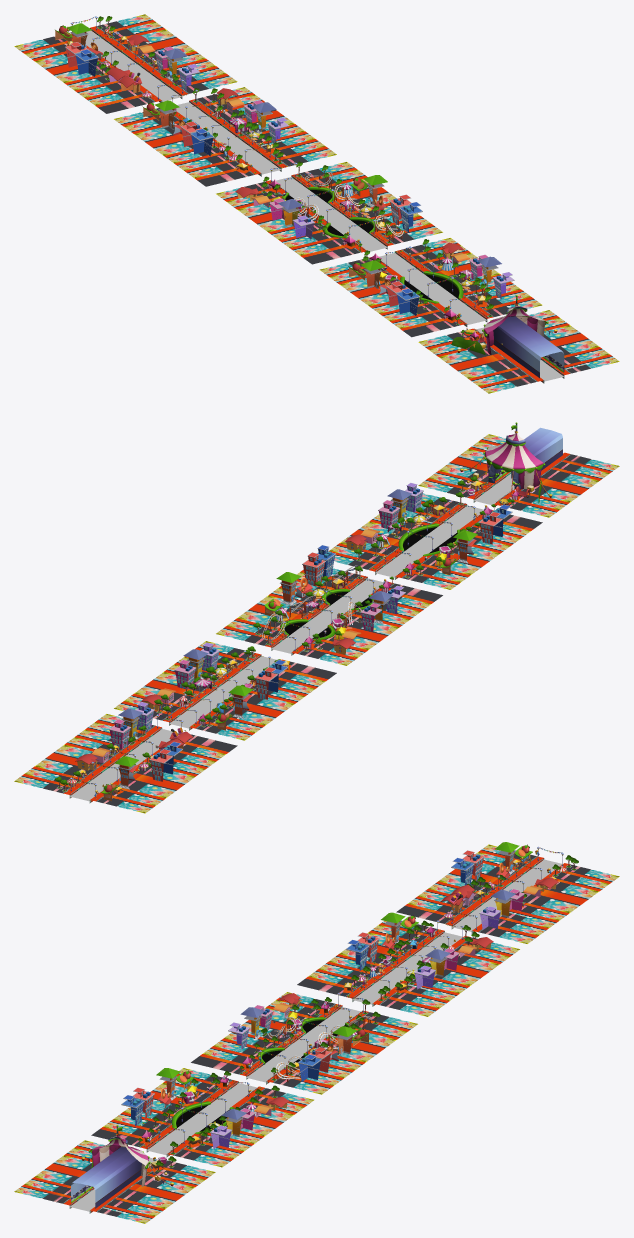
Rendered from carnival_new.fbx.
The picture shows the model from 3 angles, top to bottom: view 1: azimuth 30°, elevation 25°; view 2: azimuth 150°, elevation 25°; view 3: azimuth 330°, elevation 25°; orthographic projection.
Parts seen in each view (by area): view 1: base1, base2, base3, base4, baseRoad, builldings1, BuildingsGate, buildings3, builldings3, builldings4, builldings2, buildings4 (+5 smaller); view 2: base1, base2, base3, base4, baseRoad, builldings1, BuildingsGate, buildings3, builldings3, builldings4, builldings2, buildings4 (+6 smaller); view 3: base1, base2, base3, base4, baseRoad, builldings1, BuildingsGate, buildings3, builldings4, builldings3, builldings2, buildings4 (+5 smaller).
Boxes of the visible parts, <box> form: base1: <box>14,14,237,113</box>; base2: <box>114,87,336,186</box>; base3: <box>216,162,442,264</box>; base4: <box>319,238,542,337</box>; baseRoad: <box>418,310,619,393</box>; builldings1: <box>55,16,200,99</box>; BuildingsGate: <box>451,295,564,378</box>; buildings3: <box>261,161,403,251</box>; builldings3: <box>235,175,422,239</box>; builldings4: <box>348,242,514,315</box>; builldings2: <box>142,88,289,156</box>; buildings4: <box>362,239,493,325</box>; base1: <box>14,714,237,813</box>; base2: <box>114,641,336,740</box>; base3: <box>216,568,442,665</box>; base4: <box>328,493,542,589</box>; baseRoad: <box>418,434,619,517</box>; builldings1: <box>55,702,193,801</box>; BuildingsGate: <box>457,422,562,505</box>; buildings3: <box>253,565,393,652</box>; builldings3: <box>264,545,405,654</box>; builldings4: <box>344,482,512,575</box>; builldings2: <box>140,642,287,730</box>; buildings4: <box>354,492,495,578</box>; base1: <box>396,844,619,943</box>; base2: <box>297,920,519,1016</box>; base3: <box>191,992,417,1094</box>; base4: <box>91,1068,313,1167</box>; baseRoad: <box>14,1140,215,1223</box>; builldings1: <box>440,842,578,929</box>; BuildingsGate: <box>71,1125,176,1208</box>; buildings3: <box>239,993,380,1082</box>; builldings4: <box>121,1068,289,1148</box>; builldings3: <box>228,993,369,1081</box>; builldings2: <box>346,912,493,989</box>; buildings4: <box>138,1071,279,1154</box>.
Bounding box in the file's own units: 1993 × 855 × 12473.
